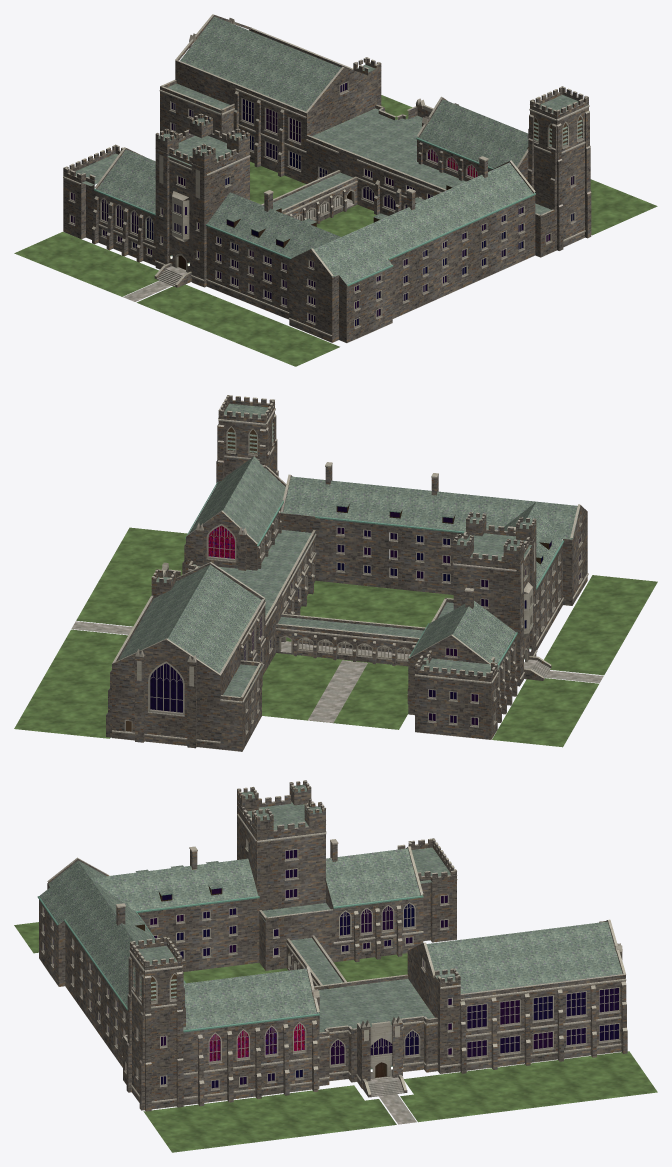
The model's file is knox-college.glb.
The picture shows the model from 3 angles, top to bottom: view 1: azimuth 30°, elevation 25°; view 2: azimuth 150°, elevation 25°; view 3: azimuth 270°, elevation 25°; orthographic projection. The views are drawn at different scales.
Parts seen in each view (by area): view 1: KnoxCollege_Walls, KnoxCollege_Roof, KnoxCollege_Trim, KnoxCollege_Lawn, KnoxCollege_Glass, KnoxCollege_Paving; view 2: KnoxCollege_Walls, KnoxCollege_Lawn, KnoxCollege_Roof, KnoxCollege_Trim, KnoxCollege_Paving, KnoxCollege_Glass, KnoxCollege_StainedGlass; view 3: KnoxCollege_Walls, KnoxCollege_Roof, KnoxCollege_Lawn, KnoxCollege_Trim, KnoxCollege_Glass, KnoxCollege_Paving, KnoxCollege_StainedGlass.
Boxes of the visible parts, x1,y1,x2,y2 form: KnoxCollege_Walls: (63, 15, 591, 342); KnoxCollege_Roof: (75, 16, 588, 284); KnoxCollege_Trim: (63, 14, 591, 336); KnoxCollege_Lawn: (14, 95, 657, 366); KnoxCollege_Glass: (71, 83, 573, 326); KnoxCollege_Paving: (123, 197, 353, 301); KnoxCollege_Walls: (106, 396, 587, 751); KnoxCollege_Lawn: (14, 527, 657, 747); KnoxCollege_Roof: (118, 403, 580, 696); KnoxCollege_Trim: (106, 395, 588, 743); KnoxCollege_Paving: (71, 621, 603, 722); KnoxCollege_Glass: (150, 506, 580, 725); KnoxCollege_StainedGlass: (208, 525, 234, 558); KnoxCollege_Walls: (39, 781, 627, 1111); KnoxCollege_Roof: (39, 784, 622, 1032); KnoxCollege_Lawn: (14, 920, 657, 1152); KnoxCollege_Trim: (37, 780, 627, 1103); KnoxCollege_Glass: (44, 849, 618, 1088); KnoxCollege_Paving: (288, 968, 416, 1124); KnoxCollege_StainedGlass: (209, 1023, 304, 1061).
Bounding box in the file's own units: 107 × 26.85 × 106.
Materials: 9 (7 with a texture image).
